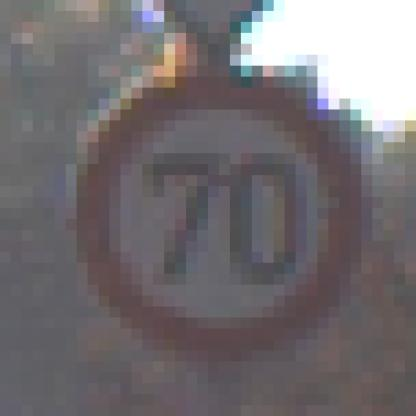Speed Limit 70: (81, 72, 354, 349)
